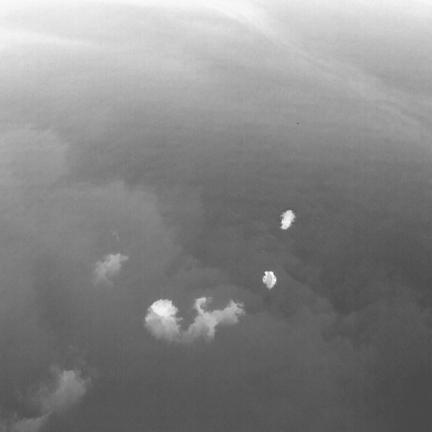flukeprints: (185, 298, 244, 341), (144, 308, 180, 341), (94, 253, 128, 285), (151, 300, 177, 317), (281, 209, 295, 229), (263, 271, 276, 289)
